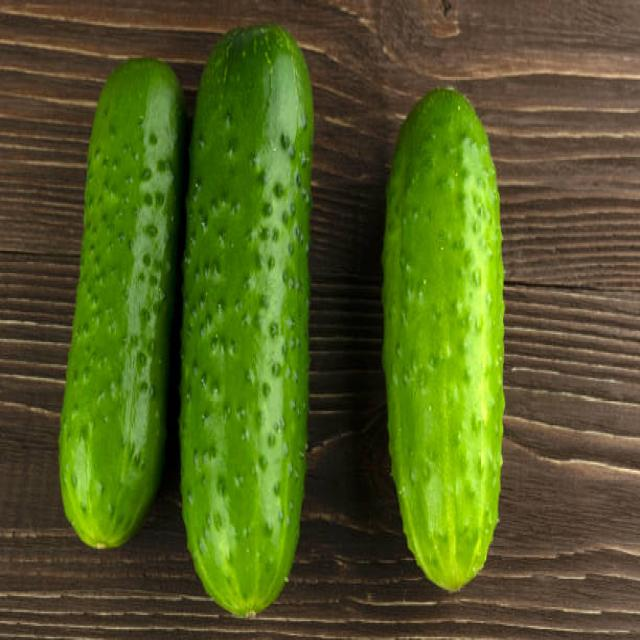cucumber: (179, 24, 312, 619), (382, 93, 504, 587), (58, 58, 179, 550)
